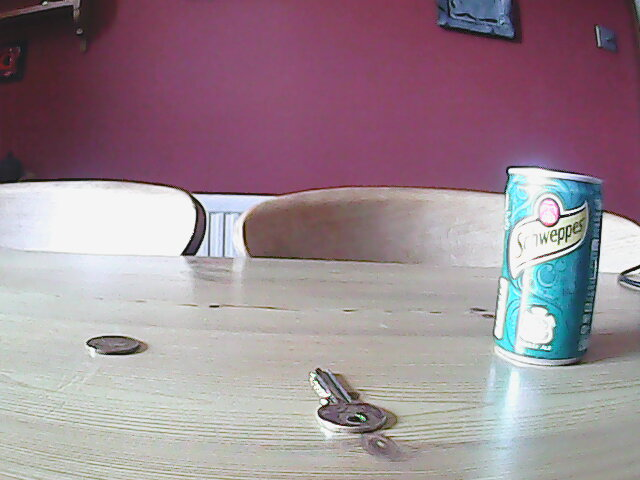Can: (491, 162, 609, 367)
Coin: (85, 334, 142, 356)
Key: (305, 365, 388, 437)
